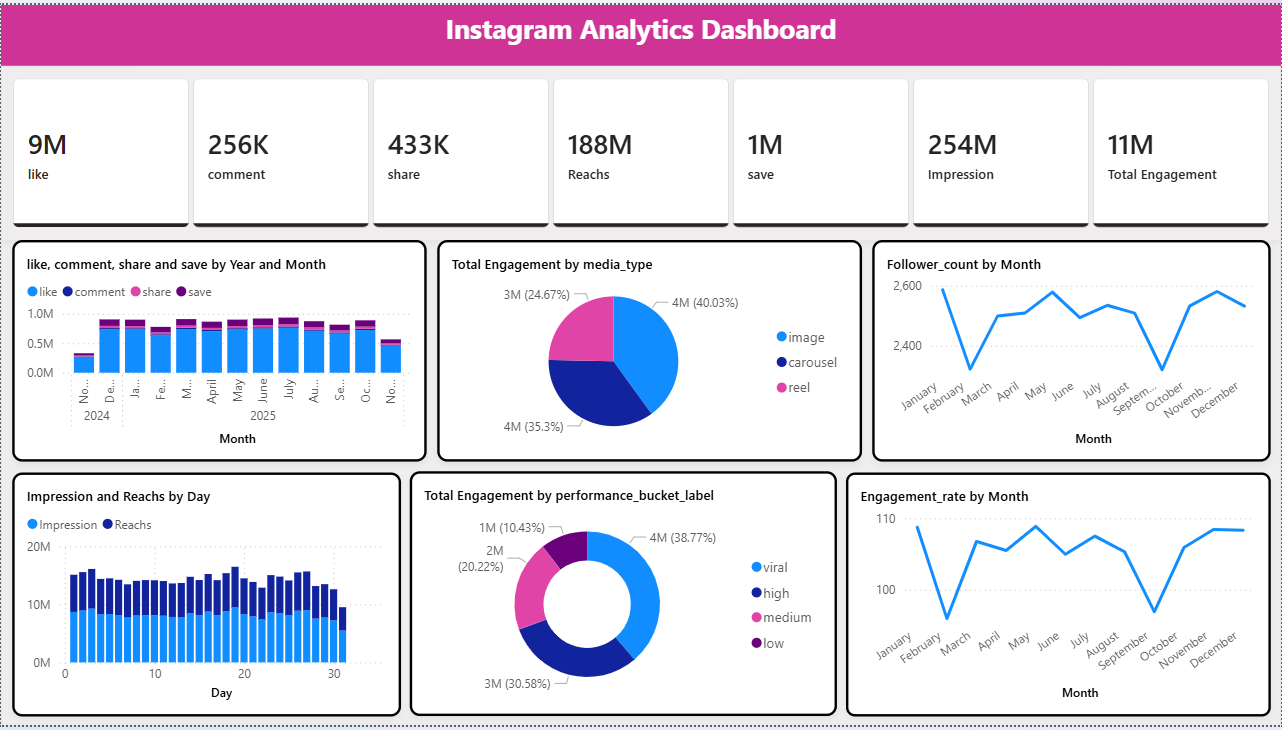

The page's visual inventory and layout, read from the dashboard file:
{"tool":"powerbi","page":{"name":"Page 1","canvas":[1280,720],"ordinal":0},"visuals":[{"type":"textbox","box":[0,0,1280,61.1],"z":0},{"type":"shape","box":[0,61.7,1280,658.3],"z":1000},{"type":"cardVisual","fields":{"Data":["Instagram_Analytics.like","Instagram_Analytics.comment","Instagram_Analytics.share","Instagram_Analytics.Reachs","Instagram_Analytics.save","Instagram_Analytics.Impression","Instagram_Analytics.Total Engagement"]},"box":[0,61.7,1280,173.3],"z":2000},{"type":"columnChart","fields":{"Y":["Instagram_Analytics.Impression","Instagram_Analytics.Reachs"],"Category":["Instagram_Analytics.post_date.Variation.Date Hierarchy.Day"]},"box":[11.1,467.7,388.9,243.7],"z":3000},{"type":"pieChart","fields":{"Category":["Instagram_Analytics.media_type"],"Y":["Instagram_Analytics.Total Engagement"]},"box":[435.7,235.1,424.6,221.5],"z":4000},{"type":"donutChart","fields":{"Category":["Instagram_Analytics.performance_bucket_label"],"Y":["Instagram_Analytics.Total Engagement"]},"box":[408.6,466.5,427.1,244.9],"z":5000},{"type":"columnChart","fields":{"Y":["Instagram_Analytics.like","Instagram_Analytics.comment","Instagram_Analytics.share","Instagram_Analytics.save"],"Category":["Instagram_Analytics.post_date.Variation.Date Hierarchy.Year","Instagram_Analytics.post_date.Variation.Date Hierarchy.Month"]},"box":[11.1,235.1,414.8,221.5],"z":6000},{"type":"lineChart","title":"Follower_count by Month","fields":{"Category":["Instagram_Analytics.post_date.Variation.Date Hierarchy.Month"],"Y":["CountNonNull(Instagram_Analytics.follower_count)"]},"box":[871.4,235.1,398.8,221.5],"z":7000},{"type":"lineChart","title":"Engagement_rate by Month","fields":{"Y":["Sum(Instagram_Analytics.engagement_rate)"],"Category":["Instagram_Analytics.post_date.Variation.Date Hierarchy.Month"]},"box":[845.5,467.7,424.6,243.7],"z":8000}]}

Visuals, with their boxes in screenshot pixels (x1, y1, x2, y2), scaled from the page's 1280x720 canvas onto the 1282x730 screenshot:
textbox: 0, 0, 1281, 62
shape: 0, 63, 1281, 729
cardVisual - Instagram_Analytics.like x Instagram_Analytics.comment: 0, 63, 1281, 238
columnChart - Instagram_Analytics.Impression x Instagram_Analytics.Reachs: 11, 474, 401, 721
pieChart - Instagram_Analytics.media_type x Instagram_Analytics.Total Engagement: 436, 238, 862, 463
donutChart - Instagram_Analytics.performance_bucket_label x Instagram_Analytics.Total Engagement: 409, 473, 837, 721
columnChart - Instagram_Analytics.like x Instagram_Analytics.comment: 11, 238, 427, 463
"Follower_count by Month" lineChart: 873, 238, 1272, 463
"Engagement_rate by Month" lineChart: 847, 474, 1272, 721
